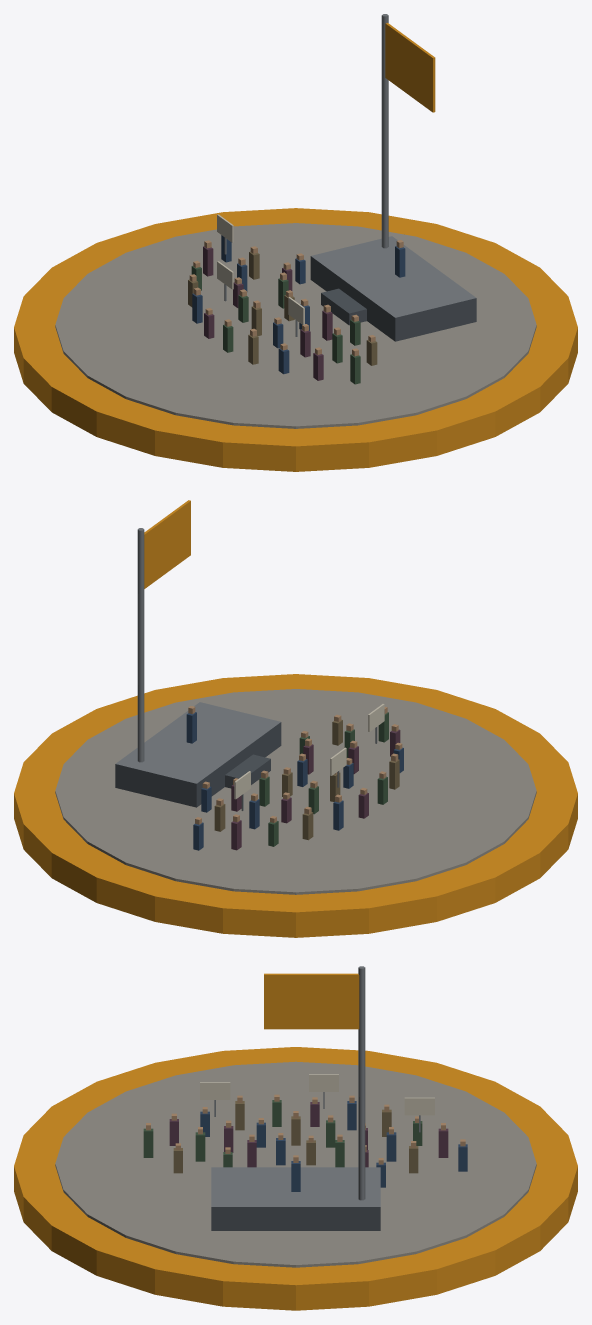
Rendered from rally_amber.glb.
The picture shows the model from 3 angles, top to bottom: view 1: azimuth 30°, elevation 25°; view 2: azimuth 150°, elevation 25°; view 3: azimuth 270°, elevation 25°; orthographic projection.
Visible parts, largest first — view 1: rally_amber; view 2: rally_amber; view 3: rally_amber.
Part boxes in pixels (x1,y1,x2,y2): rally_amber: (14, 14, 577, 471); rally_amber: (14, 500, 577, 937); rally_amber: (14, 966, 577, 1310).
Size of the model in its own units: 30 by 16.65 by 30.
